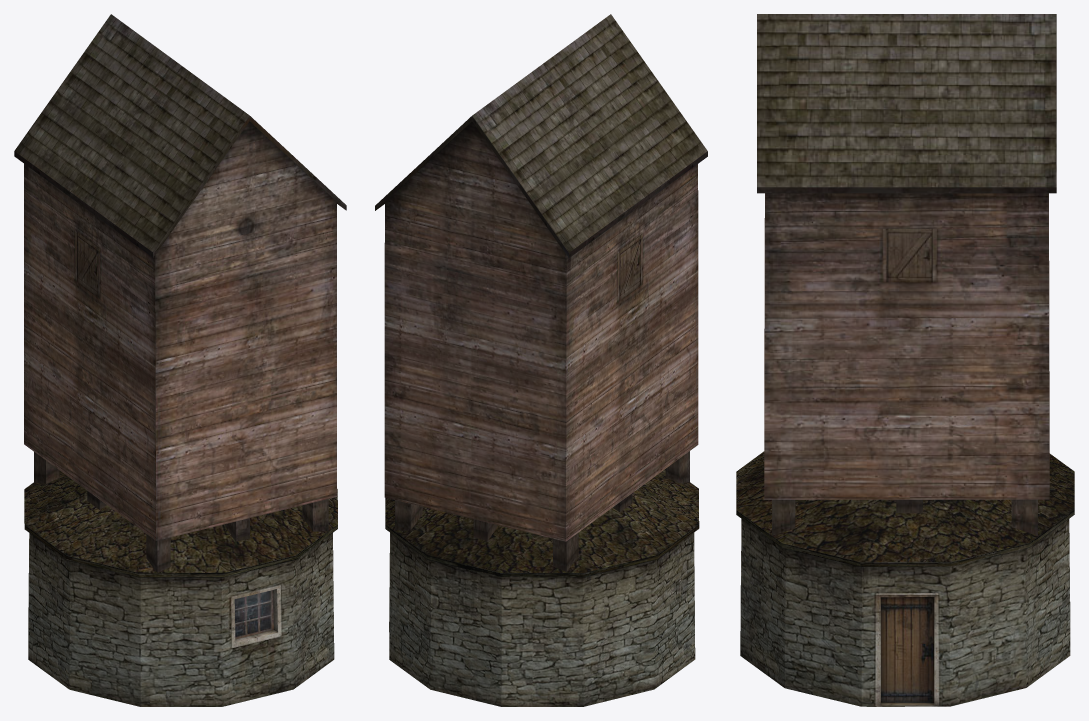
Rendered from WindmilBase.obj.
3 views of the same model, side by side, from view 1: azimuth 30°, elevation 25°; view 2: azimuth 150°, elevation 25°; view 3: azimuth 270°, elevation 25° (orthographic). The views are drawn at different scales.
Size of the model in its own units: 7.82 by 15.89 by 7.82.
Materials: 1 (1 with a texture image).
